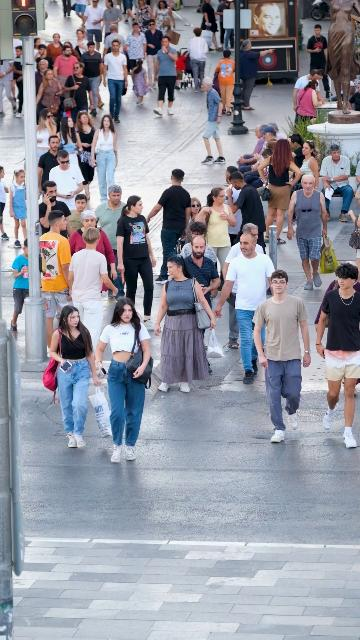person: (253, 270, 311, 443), (94, 298, 153, 463), (214, 232, 275, 385), (313, 263, 360, 449), (153, 256, 216, 393), (48, 305, 101, 449), (68, 227, 119, 348), (116, 194, 157, 328), (146, 168, 191, 286), (38, 210, 73, 355), (257, 139, 303, 246), (287, 174, 328, 291), (189, 187, 237, 274), (69, 209, 118, 290), (92, 184, 126, 300), (225, 171, 267, 253), (180, 234, 222, 311), (315, 263, 360, 331), (319, 144, 355, 222), (239, 40, 275, 111), (90, 114, 118, 204), (220, 244, 243, 349), (49, 149, 86, 212), (71, 110, 96, 200), (243, 139, 277, 205), (200, 78, 226, 164), (102, 40, 128, 123), (180, 221, 221, 273), (152, 36, 178, 118), (225, 223, 267, 272), (63, 62, 96, 122), (9, 239, 29, 337), (39, 181, 72, 240), (306, 24, 330, 102), (244, 124, 276, 179), (37, 135, 64, 195), (80, 41, 103, 109), (213, 50, 236, 115), (186, 27, 209, 92), (35, 70, 62, 125), (9, 169, 27, 249), (54, 45, 80, 100), (237, 124, 266, 173), (142, 19, 162, 90), (56, 116, 80, 169), (297, 80, 326, 123), (295, 140, 319, 191), (222, 166, 242, 226), (124, 22, 147, 72), (36, 108, 57, 162), (293, 70, 318, 114), (82, 0, 104, 49), (130, 58, 151, 107), (68, 194, 90, 237), (153, 0, 175, 40), (0, 166, 10, 241), (173, 48, 190, 90), (102, 24, 124, 56), (103, 0, 123, 34), (287, 133, 304, 169), (46, 33, 65, 62), (72, 29, 88, 58), (266, 122, 289, 142), (187, 197, 203, 225), (316, 69, 326, 104), (62, 43, 81, 59), (54, 103, 64, 124)
